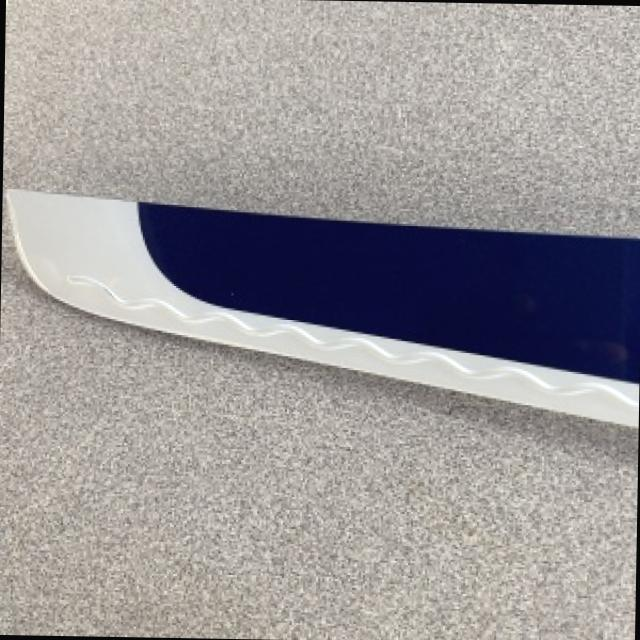healthy: (9, 187, 640, 426), (11, 187, 639, 426)
